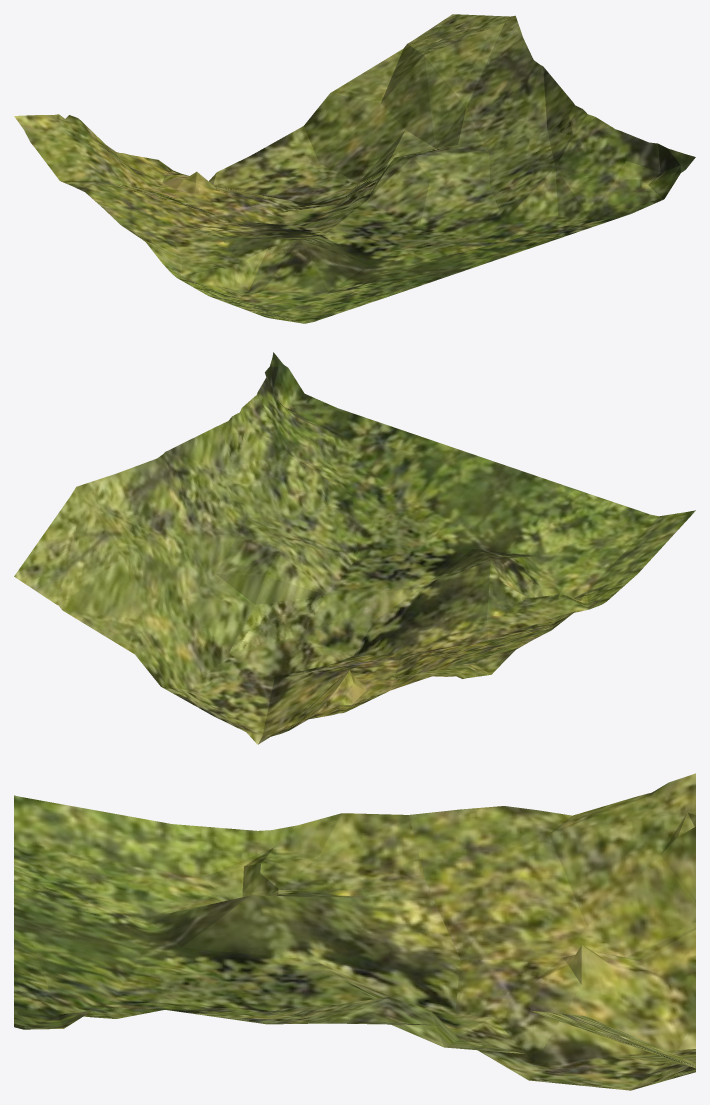
3 views of the same model, one above another, from view 1: azimuth 30°, elevation 25°; view 2: azimuth 150°, elevation 25°; view 3: azimuth 270°, elevation 25° (orthographic). The views are drawn at different scales.
Bounding box in the file's own units: 2.95 × 0.9985 × 2.95.
Materials: 3 (3 with a texture image).
